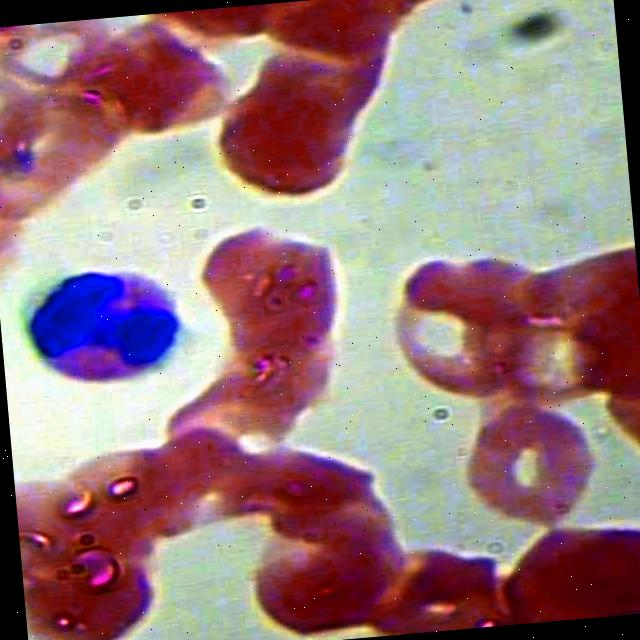RBC: (192, 220, 360, 376), (75, 6, 242, 158), (243, 498, 410, 640), (384, 274, 538, 410), (120, 410, 274, 546), (456, 396, 600, 534), (210, 86, 368, 205), (491, 518, 640, 625), (0, 81, 127, 199), (19, 543, 167, 640)
WBC: (19, 252, 202, 398)
